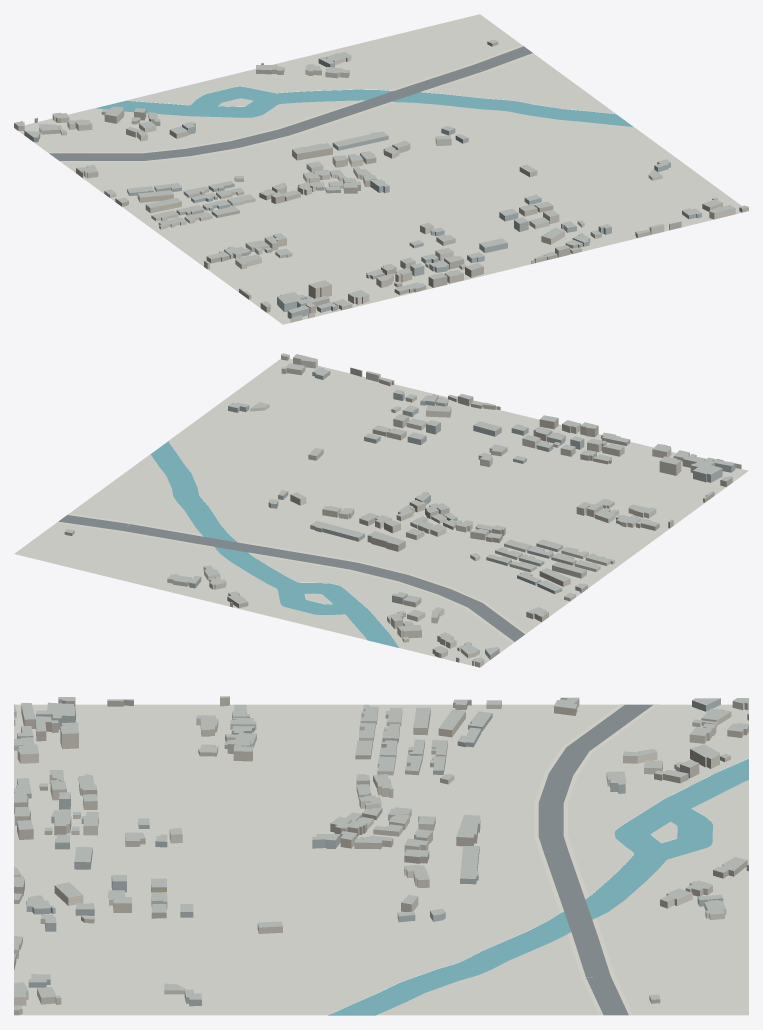
3 renders of one model, top to bottom at view 1: azimuth 30°, elevation 25°; view 2: azimuth 150°, elevation 25°; view 3: azimuth 270°, elevation 25°, orthographic. The views are drawn at different scales.
Parts seen in each view (by area): view 1: city; view 2: city; view 3: city.
Part boxes in pixels (x1=…): city: x1=14, y1=14, x2=748, y2=324; city: x1=14, y1=353, x2=748, y2=667; city: x1=14, y1=696, x2=748, y2=1015.
Bounding box in the file's own units: 500 × 11.58 × 500.
